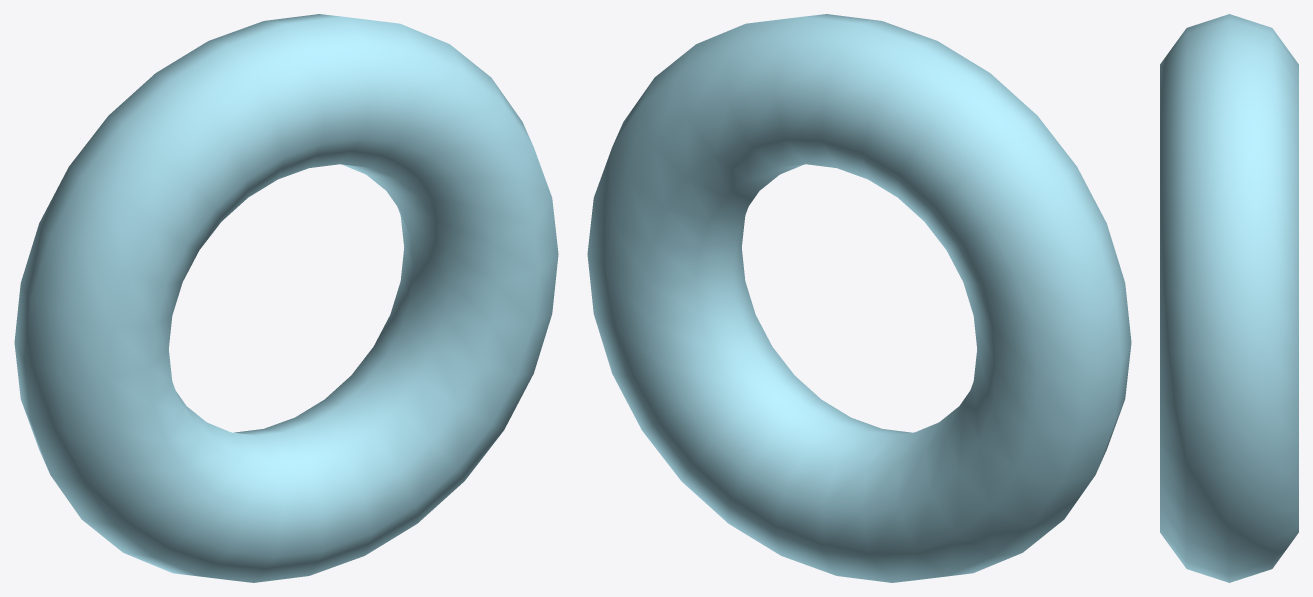
The model's file is StruggleOrbRing.glb.
3 renders of one model, left to right at view 1: azimuth 30°, elevation 25°; view 2: azimuth 150°, elevation 25°; view 3: azimuth 270°, elevation 25°, orthographic. The views are drawn at different scales.
Visible parts, largest first — view 1: Orb; view 2: Orb; view 3: Orb.
Part boxes in pixels (box(x1,y1,x2,y2)): Orb: box(14, 14, 558, 582); Orb: box(587, 14, 1131, 582); Orb: box(1160, 14, 1298, 582).
Size of the model in its own units: 1.56 by 1.56 by 0.3804.
